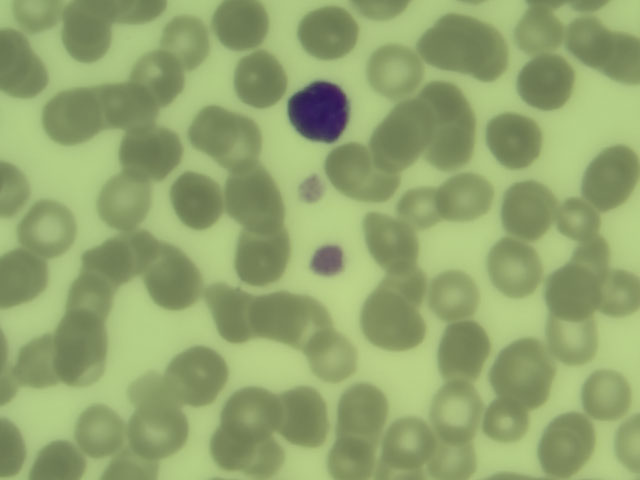Platelets: (311, 242, 346, 281), (294, 173, 324, 205)
RBC: (496, 339, 551, 396), (56, 325, 112, 377), (153, 256, 205, 308), (588, 151, 637, 204), (428, 387, 476, 441), (522, 59, 574, 107), (59, 6, 111, 54), (515, 6, 565, 55), (46, 94, 93, 142), (379, 257, 426, 305), (371, 211, 418, 259), (403, 181, 450, 229), (445, 170, 492, 218), (140, 48, 187, 96), (163, 15, 210, 63), (240, 55, 287, 103), (371, 45, 418, 93), (305, 8, 352, 56), (120, 128, 167, 176), (101, 176, 148, 224), (127, 231, 174, 279), (87, 236, 134, 284), (70, 275, 117, 323), (13, 335, 60, 383), (25, 203, 72, 251), (368, 303, 415, 351), (383, 418, 430, 466), (177, 350, 224, 398), (309, 332, 356, 380), (286, 297, 333, 345), (251, 291, 298, 339), (205, 291, 252, 339), (439, 328, 486, 376), (536, 432, 583, 480), (583, 369, 630, 417), (550, 311, 597, 359), (593, 269, 640, 317), (550, 269, 597, 317), (567, 228, 614, 276), (435, 268, 482, 316), (491, 244, 538, 292), (502, 187, 549, 235), (552, 195, 599, 243), (593, 33, 640, 81), (561, 11, 608, 59), (492, 114, 539, 162), (429, 118, 476, 166), (397, 94, 444, 142), (368, 113, 415, 161), (320, 141, 367, 189), (462, 27, 509, 75), (422, 17, 469, 65), (239, 234, 286, 282), (238, 187, 285, 235), (222, 164, 269, 212), (171, 175, 218, 223), (216, 117, 263, 165), (186, 103, 233, 151), (11, 51, 58, 99), (34, 432, 81, 480), (74, 407, 121, 455), (129, 367, 176, 415), (130, 407, 177, 455), (427, 432, 474, 480), (241, 432, 288, 480), (201, 428, 248, 476), (281, 389, 328, 437), (329, 432, 376, 480), (341, 386, 388, 434), (228, 385, 275, 433), (482, 401, 529, 449), (218, 1, 265, 48), (1, 255, 47, 303), (358, 153, 403, 201), (1, 160, 32, 221), (549, 412, 590, 453), (1, 421, 31, 477), (1, 32, 33, 83), (107, 448, 154, 480), (11, 1, 58, 29), (614, 422, 640, 472)
WBC: (289, 81, 354, 143)
